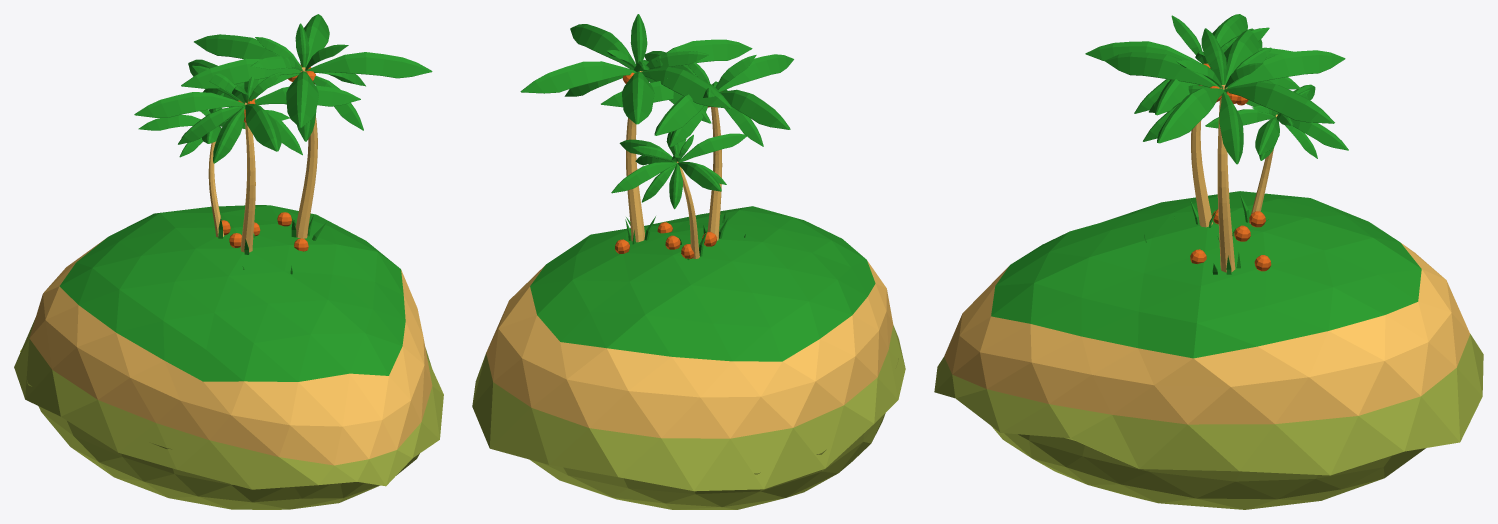
Rendered from island_3.glb.
3 renders of one model, left to right at view 1: azimuth 30°, elevation 25°; view 2: azimuth 150°, elevation 25°; view 3: azimuth 270°, elevation 25°, orthographic. The views are drawn at different scales.
Visible parts, largest first — view 1: Icosphere, Icosphere.029, Icosphere.013, Icosphere.028; view 2: Icosphere, Icosphere.029, Icosphere.013, Icosphere.028; view 3: Icosphere, Icosphere.029, Icosphere.013, Icosphere.028.
Boxes of the visible parts, bbox=[...] form: Icosphere: bbox=[14, 205, 443, 509]; Icosphere.029: bbox=[181, 14, 432, 238]; Icosphere.013: bbox=[134, 59, 360, 252]; Icosphere.028: bbox=[138, 107, 289, 237]; Icosphere: bbox=[472, 206, 905, 509]; Icosphere.029: bbox=[520, 14, 752, 242]; Icosphere.013: bbox=[601, 51, 793, 240]; Icosphere.028: bbox=[611, 131, 746, 258]; Icosphere: bbox=[934, 191, 1483, 509]; Icosphere.029: bbox=[1105, 28, 1345, 272]; Icosphere.013: bbox=[1085, 14, 1300, 227]; Icosphere.028: bbox=[1205, 84, 1348, 223].
Bounding box in the file's own units: 66.72 × 76.15 × 82.89.
